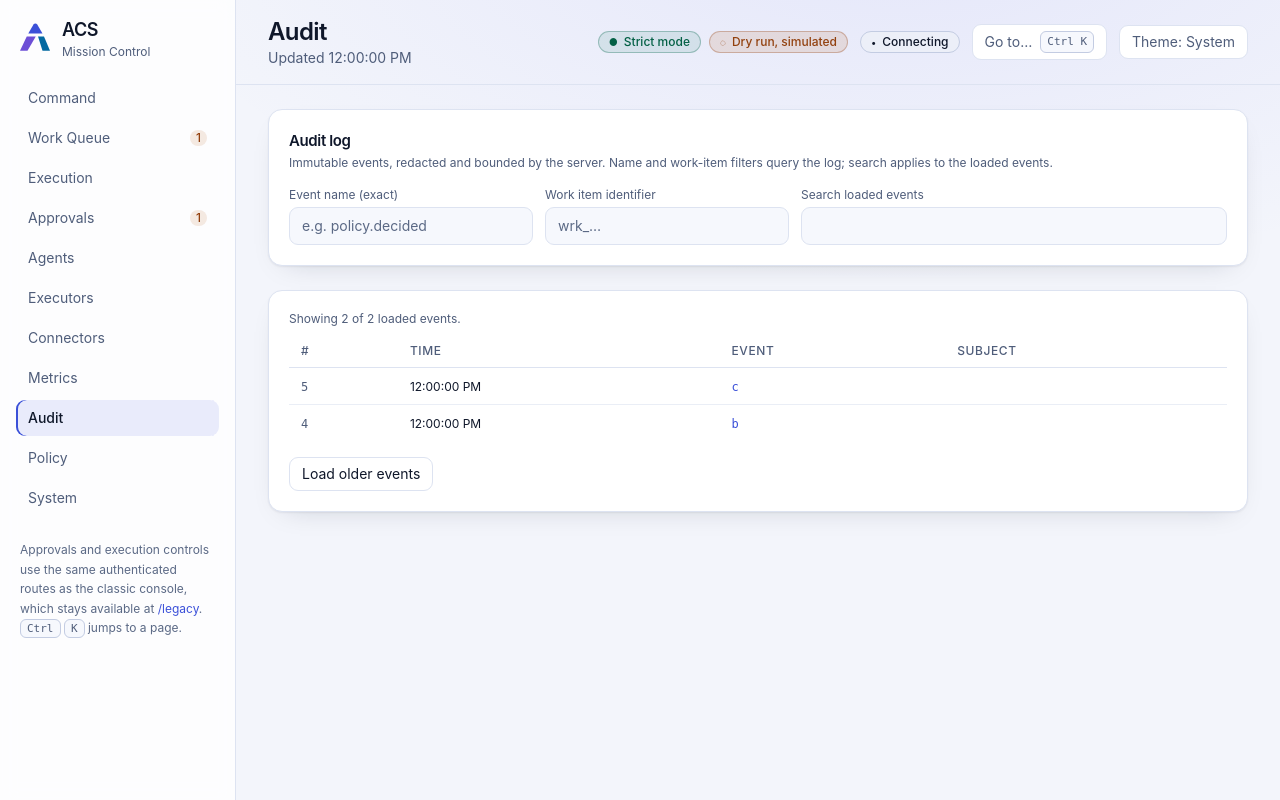
Audit page › loads older events with beforeSequence and never duplicates a row
Click the button "Load older events" at {"x": 361, "y": 474}, box [289,456,433,490]
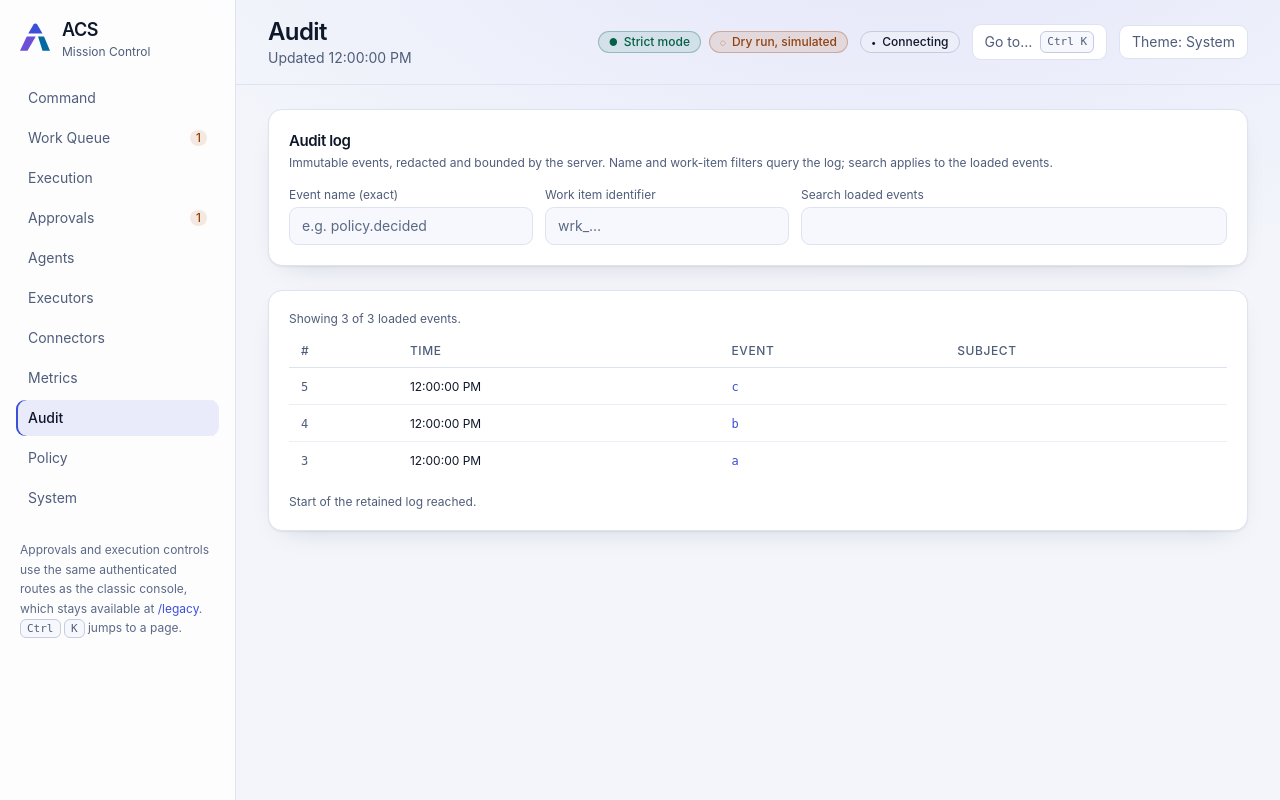
Expected: the button "Load older events" is gone
